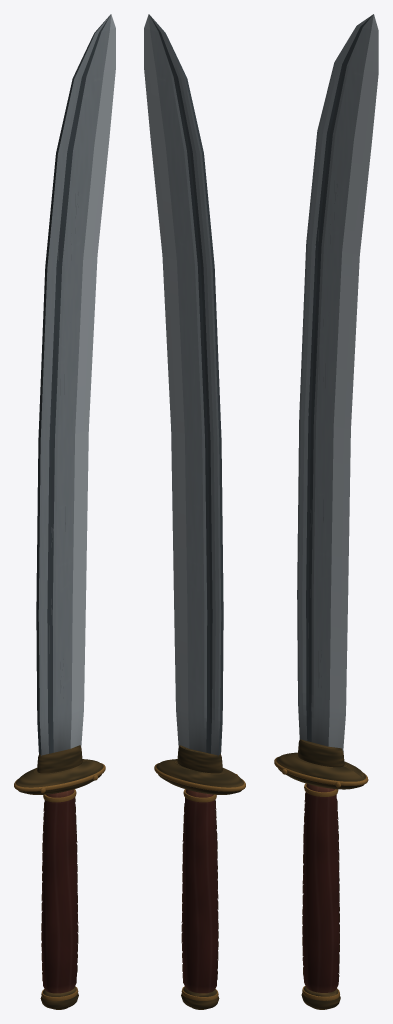
File: dao_refined.glb
3 views of the same model, side by side, from view 1: azimuth 30°, elevation 25°; view 2: azimuth 150°, elevation 25°; view 3: azimuth 330°, elevation 25° (orthographic). The views are drawn at different scales.
Parts seen in each view (by area): view 1: Blade, Handle core, Blade | shallow fuller, Guard | flared oval, Blade collar, Pommel | brass, Guard | outer rim, Grip | cord wrap; view 2: Blade, Handle core, Blade | shallow fuller, Guard | flared oval, Blade collar, Guard | outer rim, Pommel | brass, Grip | cord wrap; view 3: Blade, Handle core, Blade | shallow fuller, Guard | flared oval, Blade collar, Pommel | brass, Guard | outer rim, Grip | cord wrap, Blade | asymmetric wear.
Boxes of the visible parts, x1,y1,x2,y2 form: Blade: (36, 14, 115, 756); Handle core: (42, 789, 77, 993); Blade | shallow fuller: (47, 15, 110, 753); Guard | flared oval: (16, 759, 103, 794); Blade collar: (37, 745, 82, 773); Pommel | brass: (40, 987, 78, 1009); Guard | outer rim: (14, 763, 105, 791); Grip | cord wrap: (41, 797, 78, 981); Blade: (144, 14, 223, 756); Handle core: (182, 789, 217, 993); Blade | shallow fuller: (149, 15, 212, 753); Guard | flared oval: (156, 759, 243, 794); Blade collar: (177, 745, 222, 773); Guard | outer rim: (154, 763, 245, 791); Pommel | brass: (181, 987, 219, 1009); Grip | cord wrap: (181, 800, 218, 982); Blade: (297, 14, 378, 752); Handle core: (302, 784, 339, 992); Blade | shallow fuller: (306, 15, 372, 741); Guard | flared oval: (276, 752, 366, 789); Blade collar: (297, 739, 344, 767); Pommel | brass: (301, 986, 340, 1009); Guard | outer rim: (274, 757, 368, 785); Grip | cord wrap: (302, 793, 339, 981); Blade | asymmetric wear: (308, 180, 337, 687).
Bounding box in the file's own units: 0.104 × 0.967 × 0.039.
8 materials, 8 textured.
